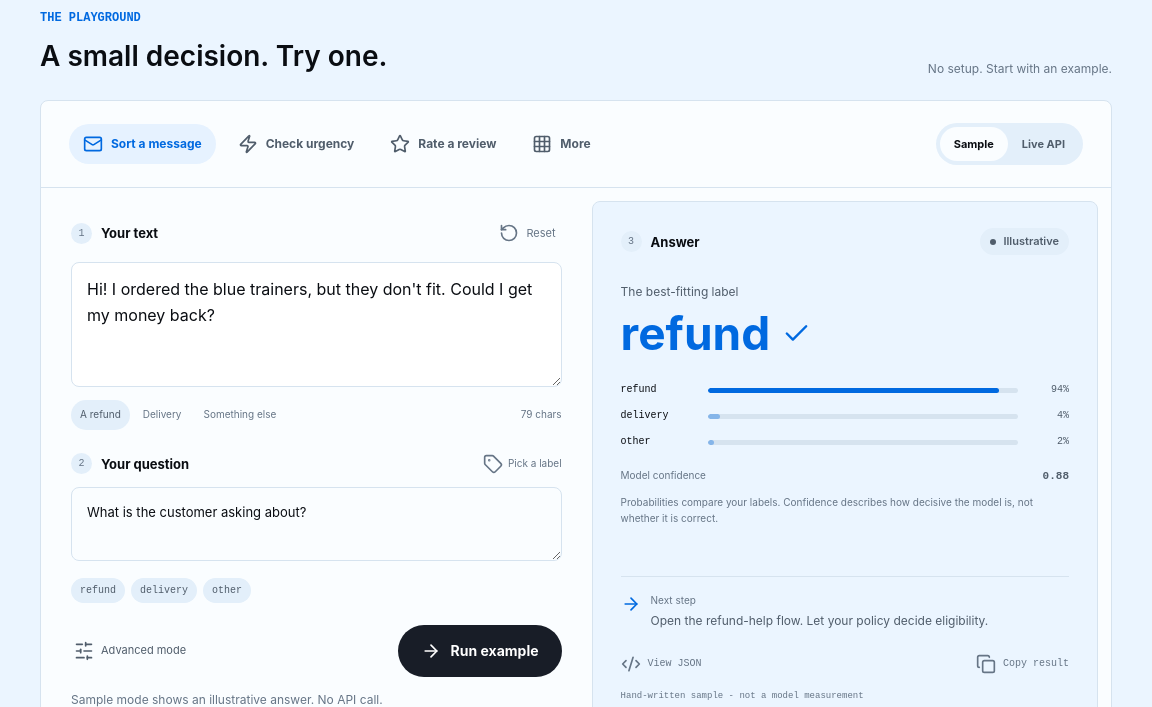
Test: landing request lifecycle › cancels a live request without substituting a sample
What coordinates should you click on to do the following:
click the button "Live API"
I would click on:
 (1043, 144)
Its box is [1008,127,1079,161].
(page scrolled)
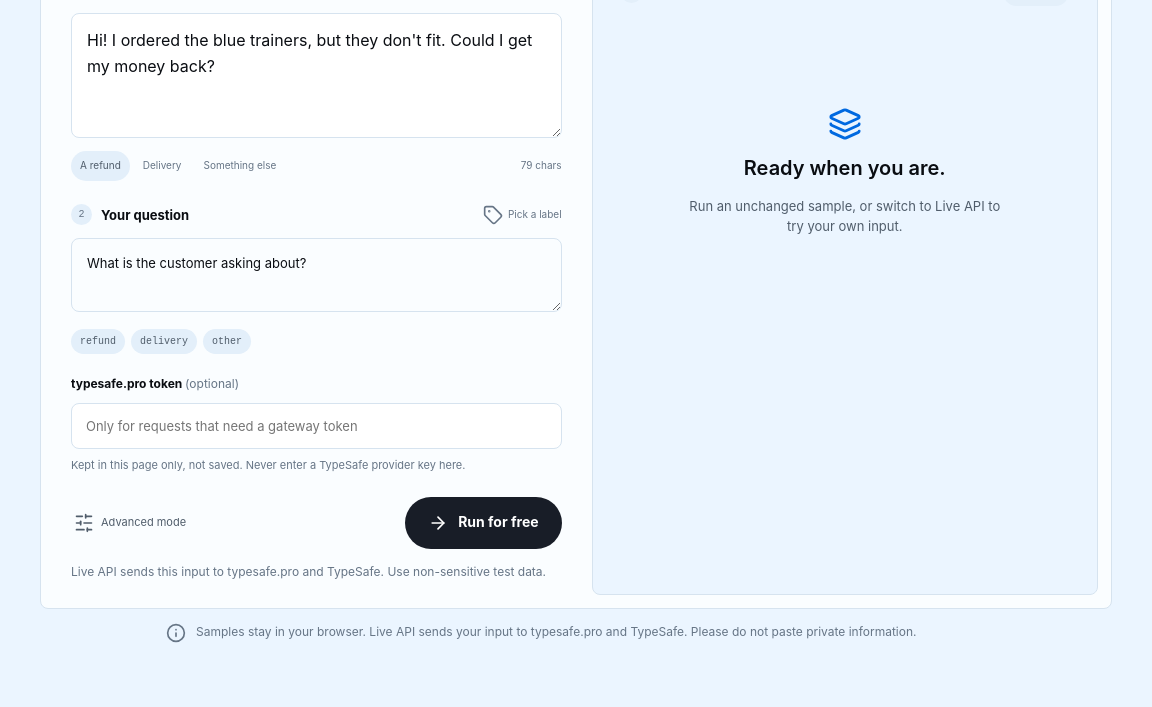
What coordinates should you click on to do the following:
click the button "Run for free"
I would click on:
 (483, 522)
Its box is [405,496,562,548].
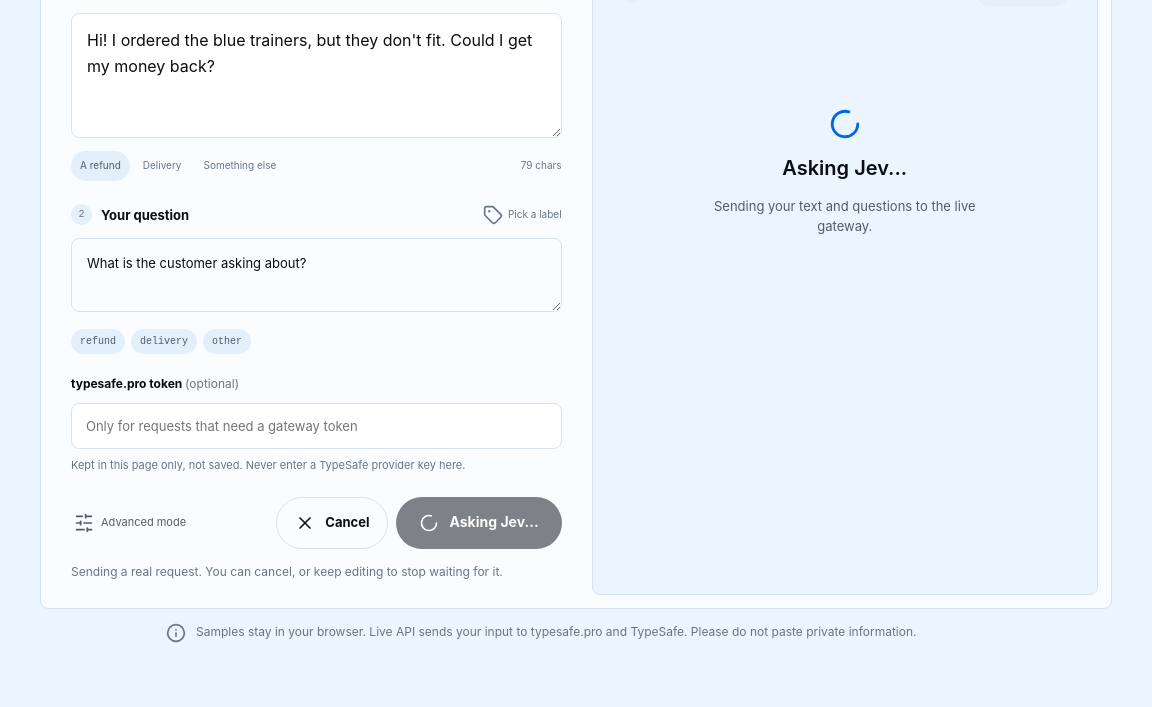
What coordinates should you click on to do the following:
click the button "Cancel"
I would click on:
 (332, 522)
Its box is [276,496,388,548].
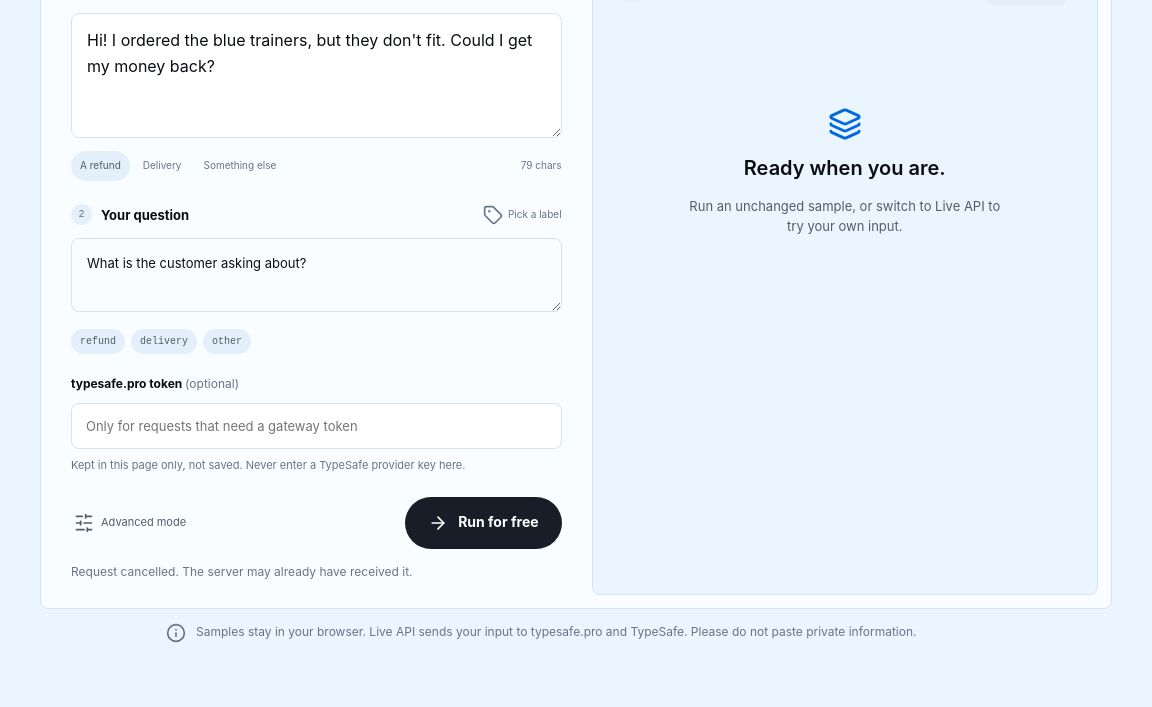
Expected: the text "Request cancelled. The server may already have received it." is shown, [71,564,413,578]
